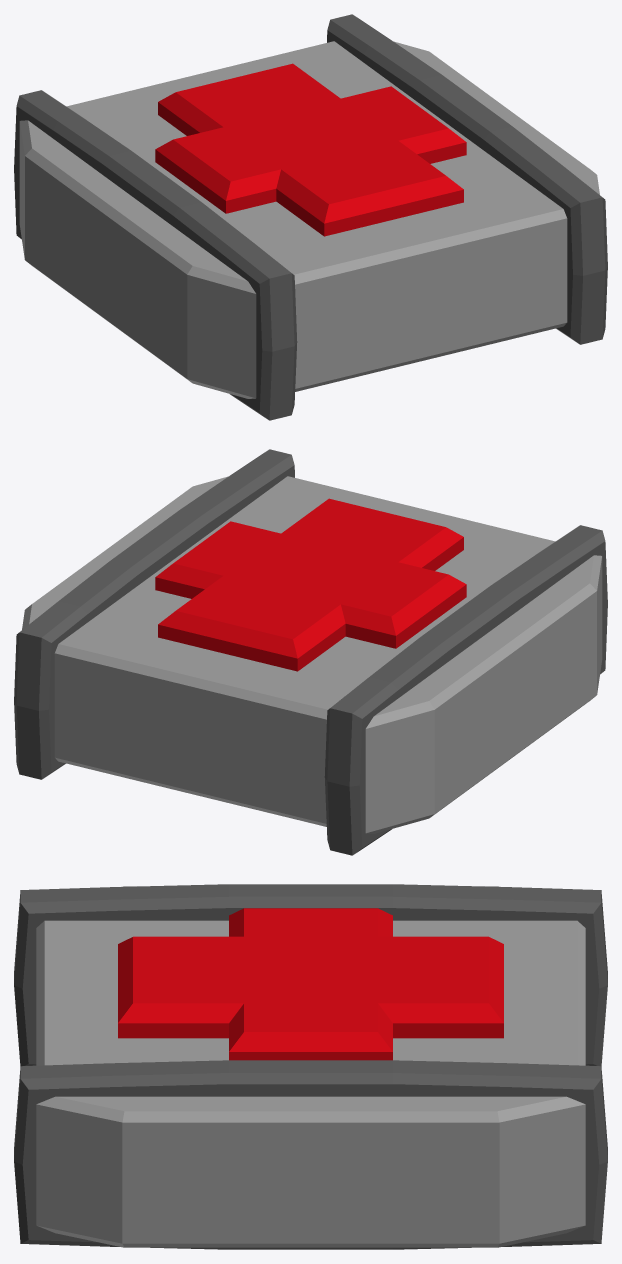
File: Apteczka 1.fbx
The picture shows the model from 3 angles, top to bottom: view 1: azimuth 30°, elevation 25°; view 2: azimuth 150°, elevation 25°; view 3: azimuth 270°, elevation 25°; orthographic projection. The views are drawn at different scales.
Visible parts, largest first — view 1: Apteczka; view 2: Apteczka; view 3: Apteczka.
Boxes of the visible parts, x1,y1,x2,y2 form: Apteczka: (14,14,607,420); Apteczka: (14,449,607,855); Apteczka: (14,884,607,1249).
Bounding box in the file's own units: 60 × 23.36 × 64.85.
